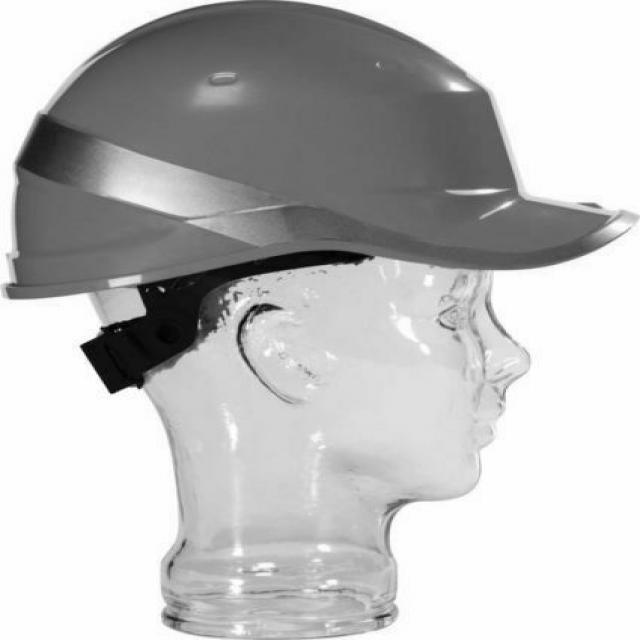safety_helmet: (6, 0, 638, 302)
